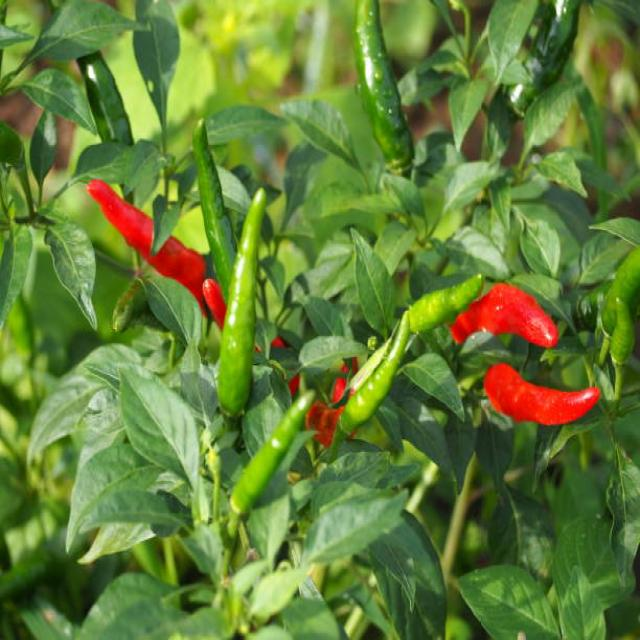Ripe: (87, 181, 206, 312), (484, 363, 599, 422), (451, 283, 557, 347)
Unripe: (230, 390, 314, 515), (353, 0, 413, 173), (220, 190, 266, 414), (340, 311, 409, 432), (193, 123, 235, 301), (402, 275, 484, 333)
